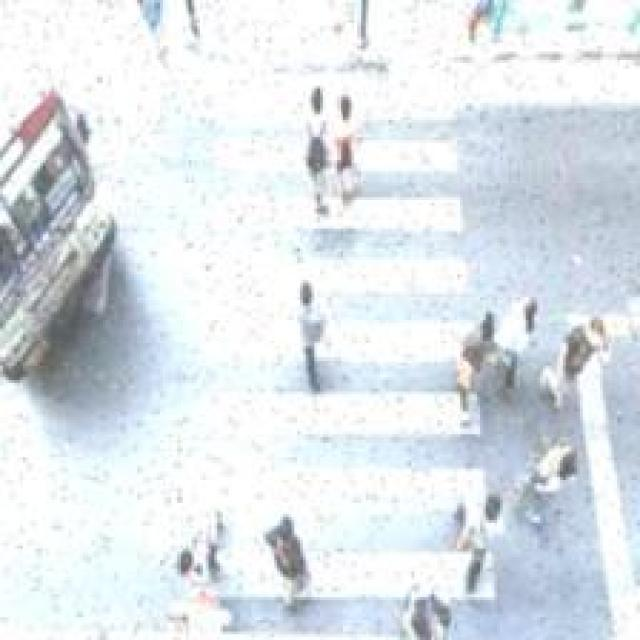walk-crossing: (230, 64, 475, 632)
